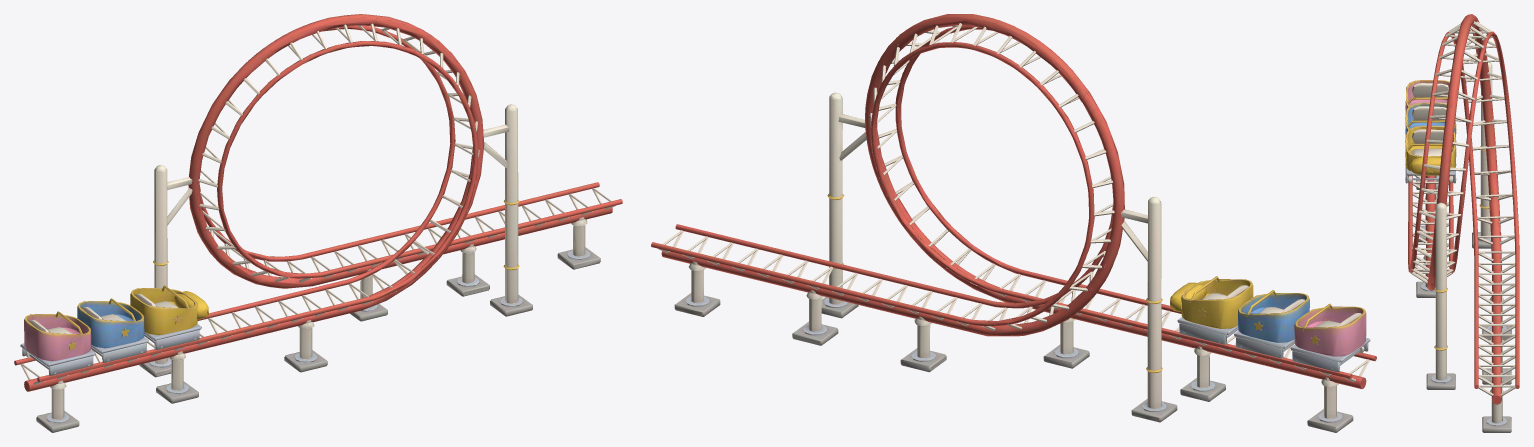
File: montana_rusa.glb
3 views of the same model, side by side, from view 1: azimuth 30°, elevation 25°; view 2: azimuth 150°, elevation 25°; view 3: azimuth 270°, elevation 25° (orthographic). The views are drawn at different scales.
Parts seen in each view (by area): view 1: roller-coaster_body; view 2: roller-coaster_body; view 3: roller-coaster_body.
Part boxes in pixels (x1,y1,x2,y2): roller-coaster_body: (14,14,622,432); roller-coaster_body: (651,14,1376,432); roller-coaster_body: (1405,14,1519,432).
Size of the model in its own units: 14 by 6.93 by 2.51.
1 material, 1 textured.
